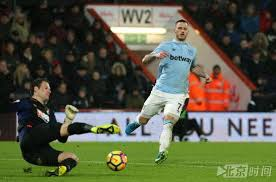10+: (1, 1, 276, 182)
down: (15, 78, 113, 176)
